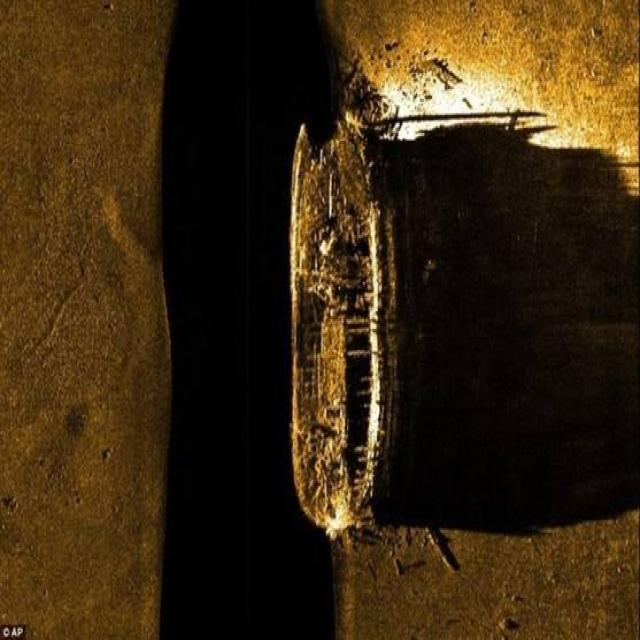shipwreck: (288, 114, 396, 542)
